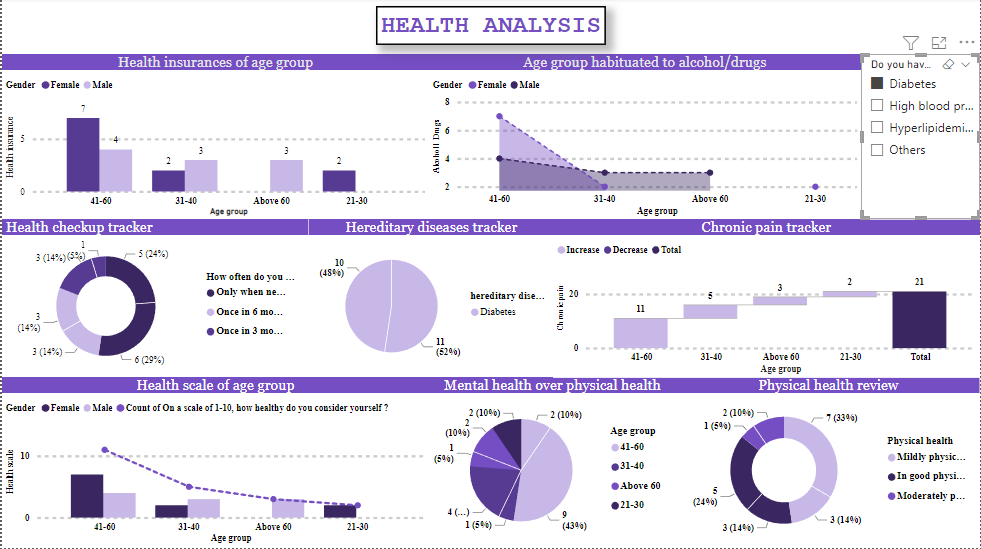

This screenshot's page, from the dashboard's own definition file:
{"tool":"powerbi","page":{"name":"Page 2","canvas":[1280,720],"ordinal":1},"visuals":[{"type":"areaChart","title":"Age group habituated to alcohol/drugs ","fields":{"Category":["Health Analysis.Age group"],"Y":["CountNonNull(Health Analysis.Are you habituated to alcohol/drugs ?)"],"Series":["Health Analysis.Gender"]},"box":[558.7,72.8,565.5,216.7],"z":0},{"type":"slicer","fields":{"Values":["Health Analysis.Do you have any hereditary conditions/ diseases ?"]},"box":[1124.2,72.8,155.8,216.7],"z":1000},{"type":"clusteredColumnChart","title":"Health insurances of age group","fields":{"Series":["Health Analysis.Gender"],"Category":["Health Analysis.Age group"],"Y":["CountNonNull(Health Analysis.Do you have a health insurance ? )"]},"box":[0,72.8,558.7,216.7],"z":2000},{"type":"pieChart","title":"Hereditary diseases tracker","fields":{"Series":["Health Analysis.Gender"],"Category":["Health Analysis.Do you have any hereditary conditions/ diseases ?"],"Y":["CountNonNull(Health Analysis.Gender)"]},"box":[401.3,289.5,320,206.6],"z":3000},{"type":"donutChart","title":"Health checkup tracker","fields":{"Series":["Health Analysis.Gender"],"Y":["CountNonNull(Health Analysis.Gender)"],"Category":["Health Analysis.How often do you get a health checkup ? "]},"box":[0,289.5,401.3,206.6],"z":4000},{"type":"lineClusteredColumnComboChart","title":"Health scale of age group","fields":{"Category":["Health Analysis.Age group"],"Series":["Health Analysis.Gender"],"Y":["CountNonNull(Health Analysis.On a scale of 1-10, how healthy do you consider yourself ?)"],"Y2":["CountNonNull(Health Analysis.On a scale of 1-10, how healthy do you consider yourself ?)"]},"box":[0,496.1,558.7,223.5],"z":5000},{"type":"donutChart","title":"Physical health review ","fields":{"Y":["CountNonNull(Health Analysis.Gender)"],"Series":["Health Analysis.Gender"],"Category":["Health Analysis.Would you say you are :"]},"box":[883.8,496.1,396.2,223.5],"z":6000},{"type":"pieChart","title":"Mental health over physical health","fields":{"Category":["Health Analysis.Age group"],"Y":["CountNonNull(Health Analysis.Does your mental well being has an affect on your physical health ?)"],"Series":["Health Analysis.Does your mental well being has an affect on your physical health ?"]},"box":[558.3,495.9,325.5,223],"z":7000},{"type":"waterfallChart","title":"Chronic pain tracker ","fields":{"Category":["Health Analysis.Age group"],"Y":["CountNonNull(Health Analysis.Do you experience any chronic pain ?)"]},"box":[721.3,289.5,558.7,208.3],"z":8000},{"type":"shape","box":[489,11.1,300.6,51.3],"z":9000}]}

Visuals, with their boxes in screenshot pixels (x1, y1, x2, y2), scaled from the page's 1280x720 canvas onto the 981x549 screenshot:
"Age group habituated to alcohol/drugs " areaChart: select_region(428, 56, 862, 221)
slicer - Health Analysis.Do you have any hereditary conditions/ diseases ?: select_region(862, 56, 980, 221)
"Health insurances of age group" clusteredColumnChart: select_region(0, 56, 428, 221)
"Hereditary diseases tracker" pieChart: select_region(308, 221, 553, 378)
"Health checkup tracker" donutChart: select_region(0, 221, 308, 378)
"Health scale of age group" lineClusteredColumnComboChart: select_region(0, 378, 428, 548)
"Physical health review " donutChart: select_region(677, 378, 980, 548)
"Mental health over physical health" pieChart: select_region(428, 378, 677, 548)
"Chronic pain tracker " waterfallChart: select_region(553, 221, 980, 380)
shape: select_region(375, 8, 605, 48)
